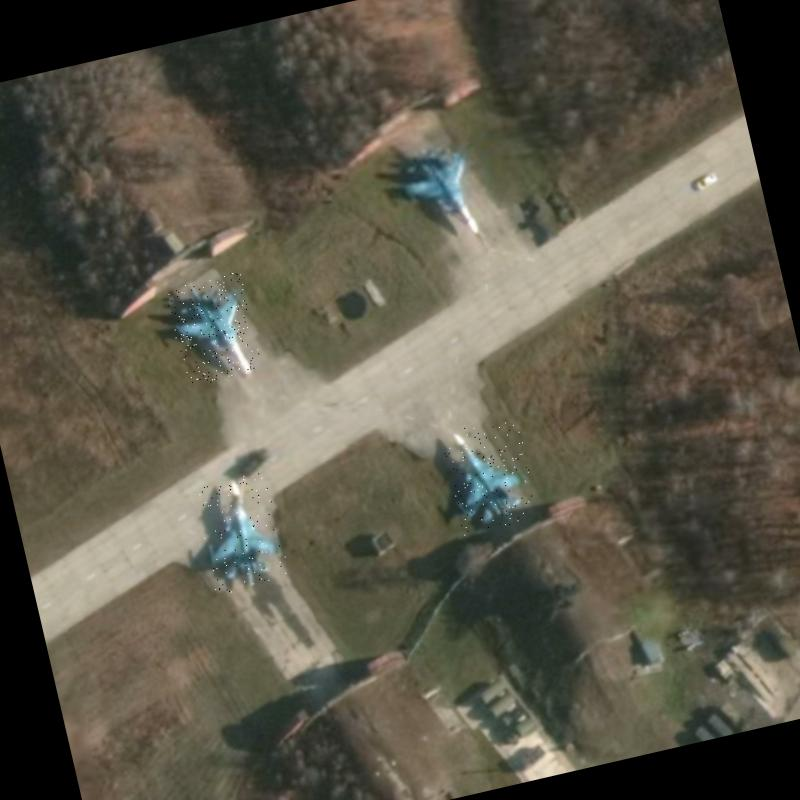A19: (192, 470, 292, 596), (440, 415, 540, 536), (164, 270, 263, 388), (394, 138, 486, 246)
